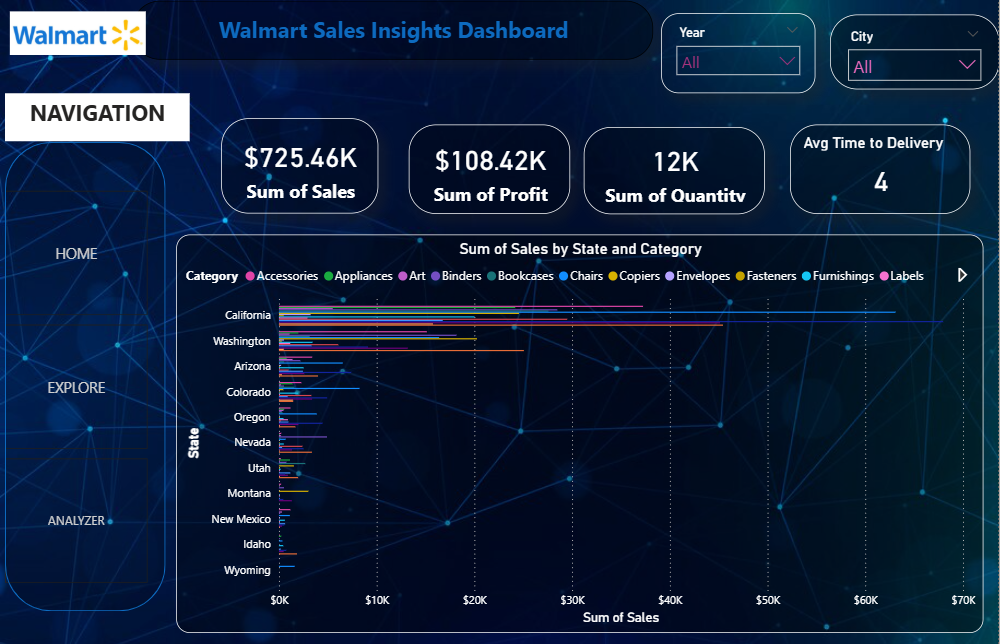

This screenshot's page, from the dashboard's own definition file:
{"tool":"powerbi","page":{"name":" ANALYZER","canvas":[1280,720],"ordinal":2},"visuals":[{"type":"card","fields":{"Values":["Sum(Walmart.Sales)"]},"box":[424.6,138.8,172.5,105.1],"z":0},{"type":"card","fields":{"Values":["Sum(Walmart.Profit)"]},"box":[630.8,145.6,177.9,98.4],"z":1000},{"type":"card","fields":{"Values":["Sum(Walmart.Quantity)"]},"box":[823.6,148.3,199.5,95.7],"z":2000},{"type":"card","title":"Avg Time to Delivery","fields":{"Values":["Avg(Walmart.Delivery Date)"]},"box":[1050,145.6,198.1,98.4],"z":3000},{"type":"textbox","title":"Walmart Sales Insights Dashboard","box":[327.6,9.4,572.9,64.7],"z":4000},{"type":"slicer","fields":{"Values":["Walmart.City"]},"box":[1094.5,24.3,186,82.2],"z":5000},{"type":"image","box":[168.5,16.2,195.5,58],"z":6000},{"type":"slicer","title":"Year","fields":{"Values":["Walmart.Year"]},"box":[908.5,22.9,169.8,87.6],"z":7000},{"type":"pageNavigator","box":[187.4,218.4,157.7,431.3],"z":8000},{"type":"textbox","box":[187.4,111.9,203.5,52.6],"z":9000},{"type":"shape","box":[187.4,164.4,176.6,516.3],"z":10000},{"type":"actionButton","box":[0,0,100,40],"z":11000},{"type":"clusteredBarChart","fields":{"Category":["Walmart.State"],"Series":["Walmart.Category"],"Y":["Sum(Walmart.Sales)"]},"box":[375.4,266.8,888.4,438.7],"z":12000}]}

Visuals, with their boxes on the page's 1280x720 design canvas (x1, y1, x2, y2). These are canvas units, not pixel positions in the 1000x644 screenshot, which may show the page scaled, cropped or inside an application window:
card - Sum(Walmart.Sales): box(425, 139, 597, 244)
card - Sum(Walmart.Profit): box(631, 146, 809, 244)
card - Sum(Walmart.Quantity): box(824, 148, 1023, 244)
"Avg Time to Delivery" card: box(1050, 146, 1248, 244)
"Walmart Sales Insights Dashboard" textbox: box(328, 9, 900, 74)
slicer - Walmart.City: box(1094, 24, 1280, 106)
image: box(168, 16, 364, 74)
"Year" slicer: box(908, 23, 1078, 110)
pageNavigator: box(187, 218, 345, 650)
textbox: box(187, 112, 391, 164)
shape: box(187, 164, 364, 681)
actionButton: box(0, 0, 100, 40)
clusteredBarChart - Walmart.State x Walmart.Category: box(375, 267, 1264, 706)
